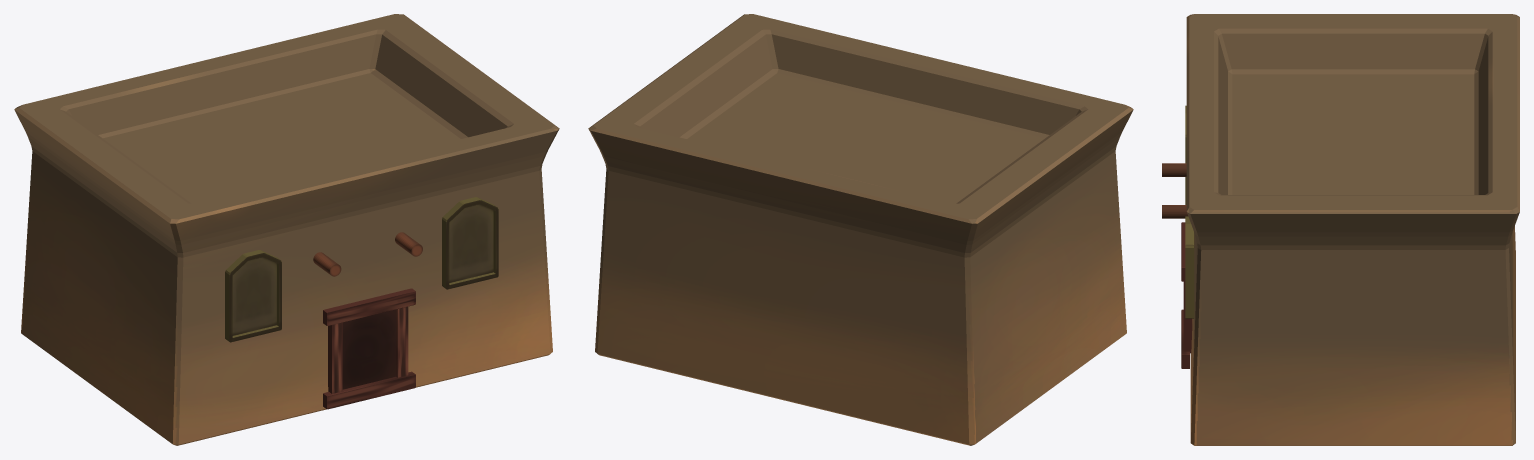
The model's file is CasaPraca4.fbx.
The picture shows the model from 3 angles, left to right: view 1: azimuth 30°, elevation 25°; view 2: azimuth 150°, elevation 25°; view 3: azimuth 270°, elevation 25°; orthographic projection. The views are drawn at different scales.
Visible parts, largest first — view 1: Cube.017, Cube.019, Cube.018, Cube.020, Cube.024, Cube.022; view 2: Cube.017; view 3: Cube.017, Cube.019, Cube.024, Cube.022.
Part boxes in pixels (x1,y1,x2,y2): Cube.017: (14, 14, 559, 445); Cube.019: (442, 197, 498, 289); Cube.018: (225, 250, 281, 342); Cube.020: (342, 309, 396, 389); Cube.024: (323, 288, 415, 409); Cube.022: (328, 306, 408, 393); Cube.017: (588, 14, 1133, 445); Cube.017: (1186, 14, 1519, 445); Cube.019: (1185, 216, 1194, 318); Cube.024: (1181, 222, 1189, 368); Cube.022: (1183, 281, 1192, 353).
Size of the model in its own units: 1121 by 628 by 852.
Materials: 6 (6 with a texture image).
